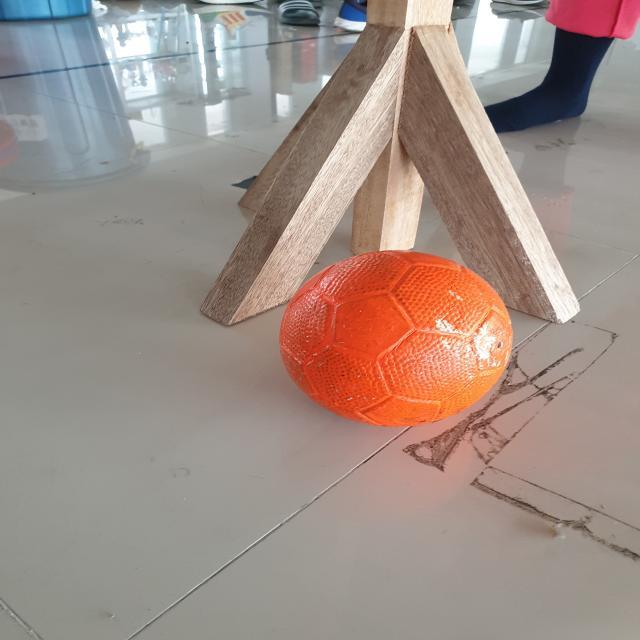bola: (264, 241, 524, 434)
